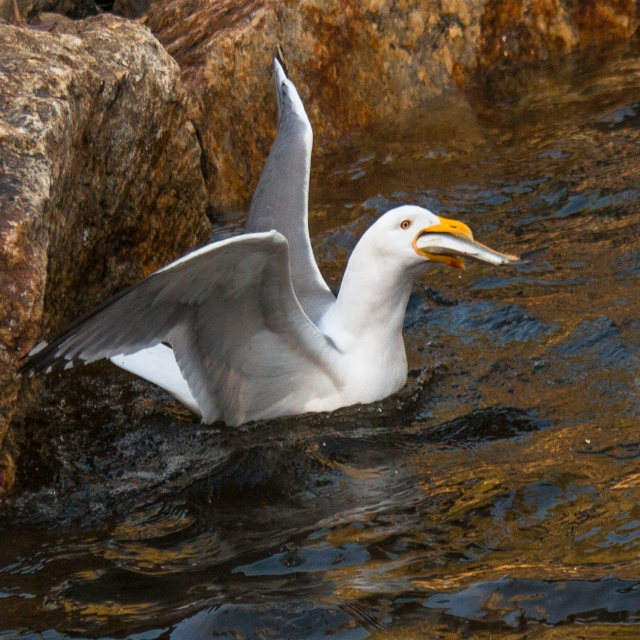Duck: (27, 56, 504, 449)
